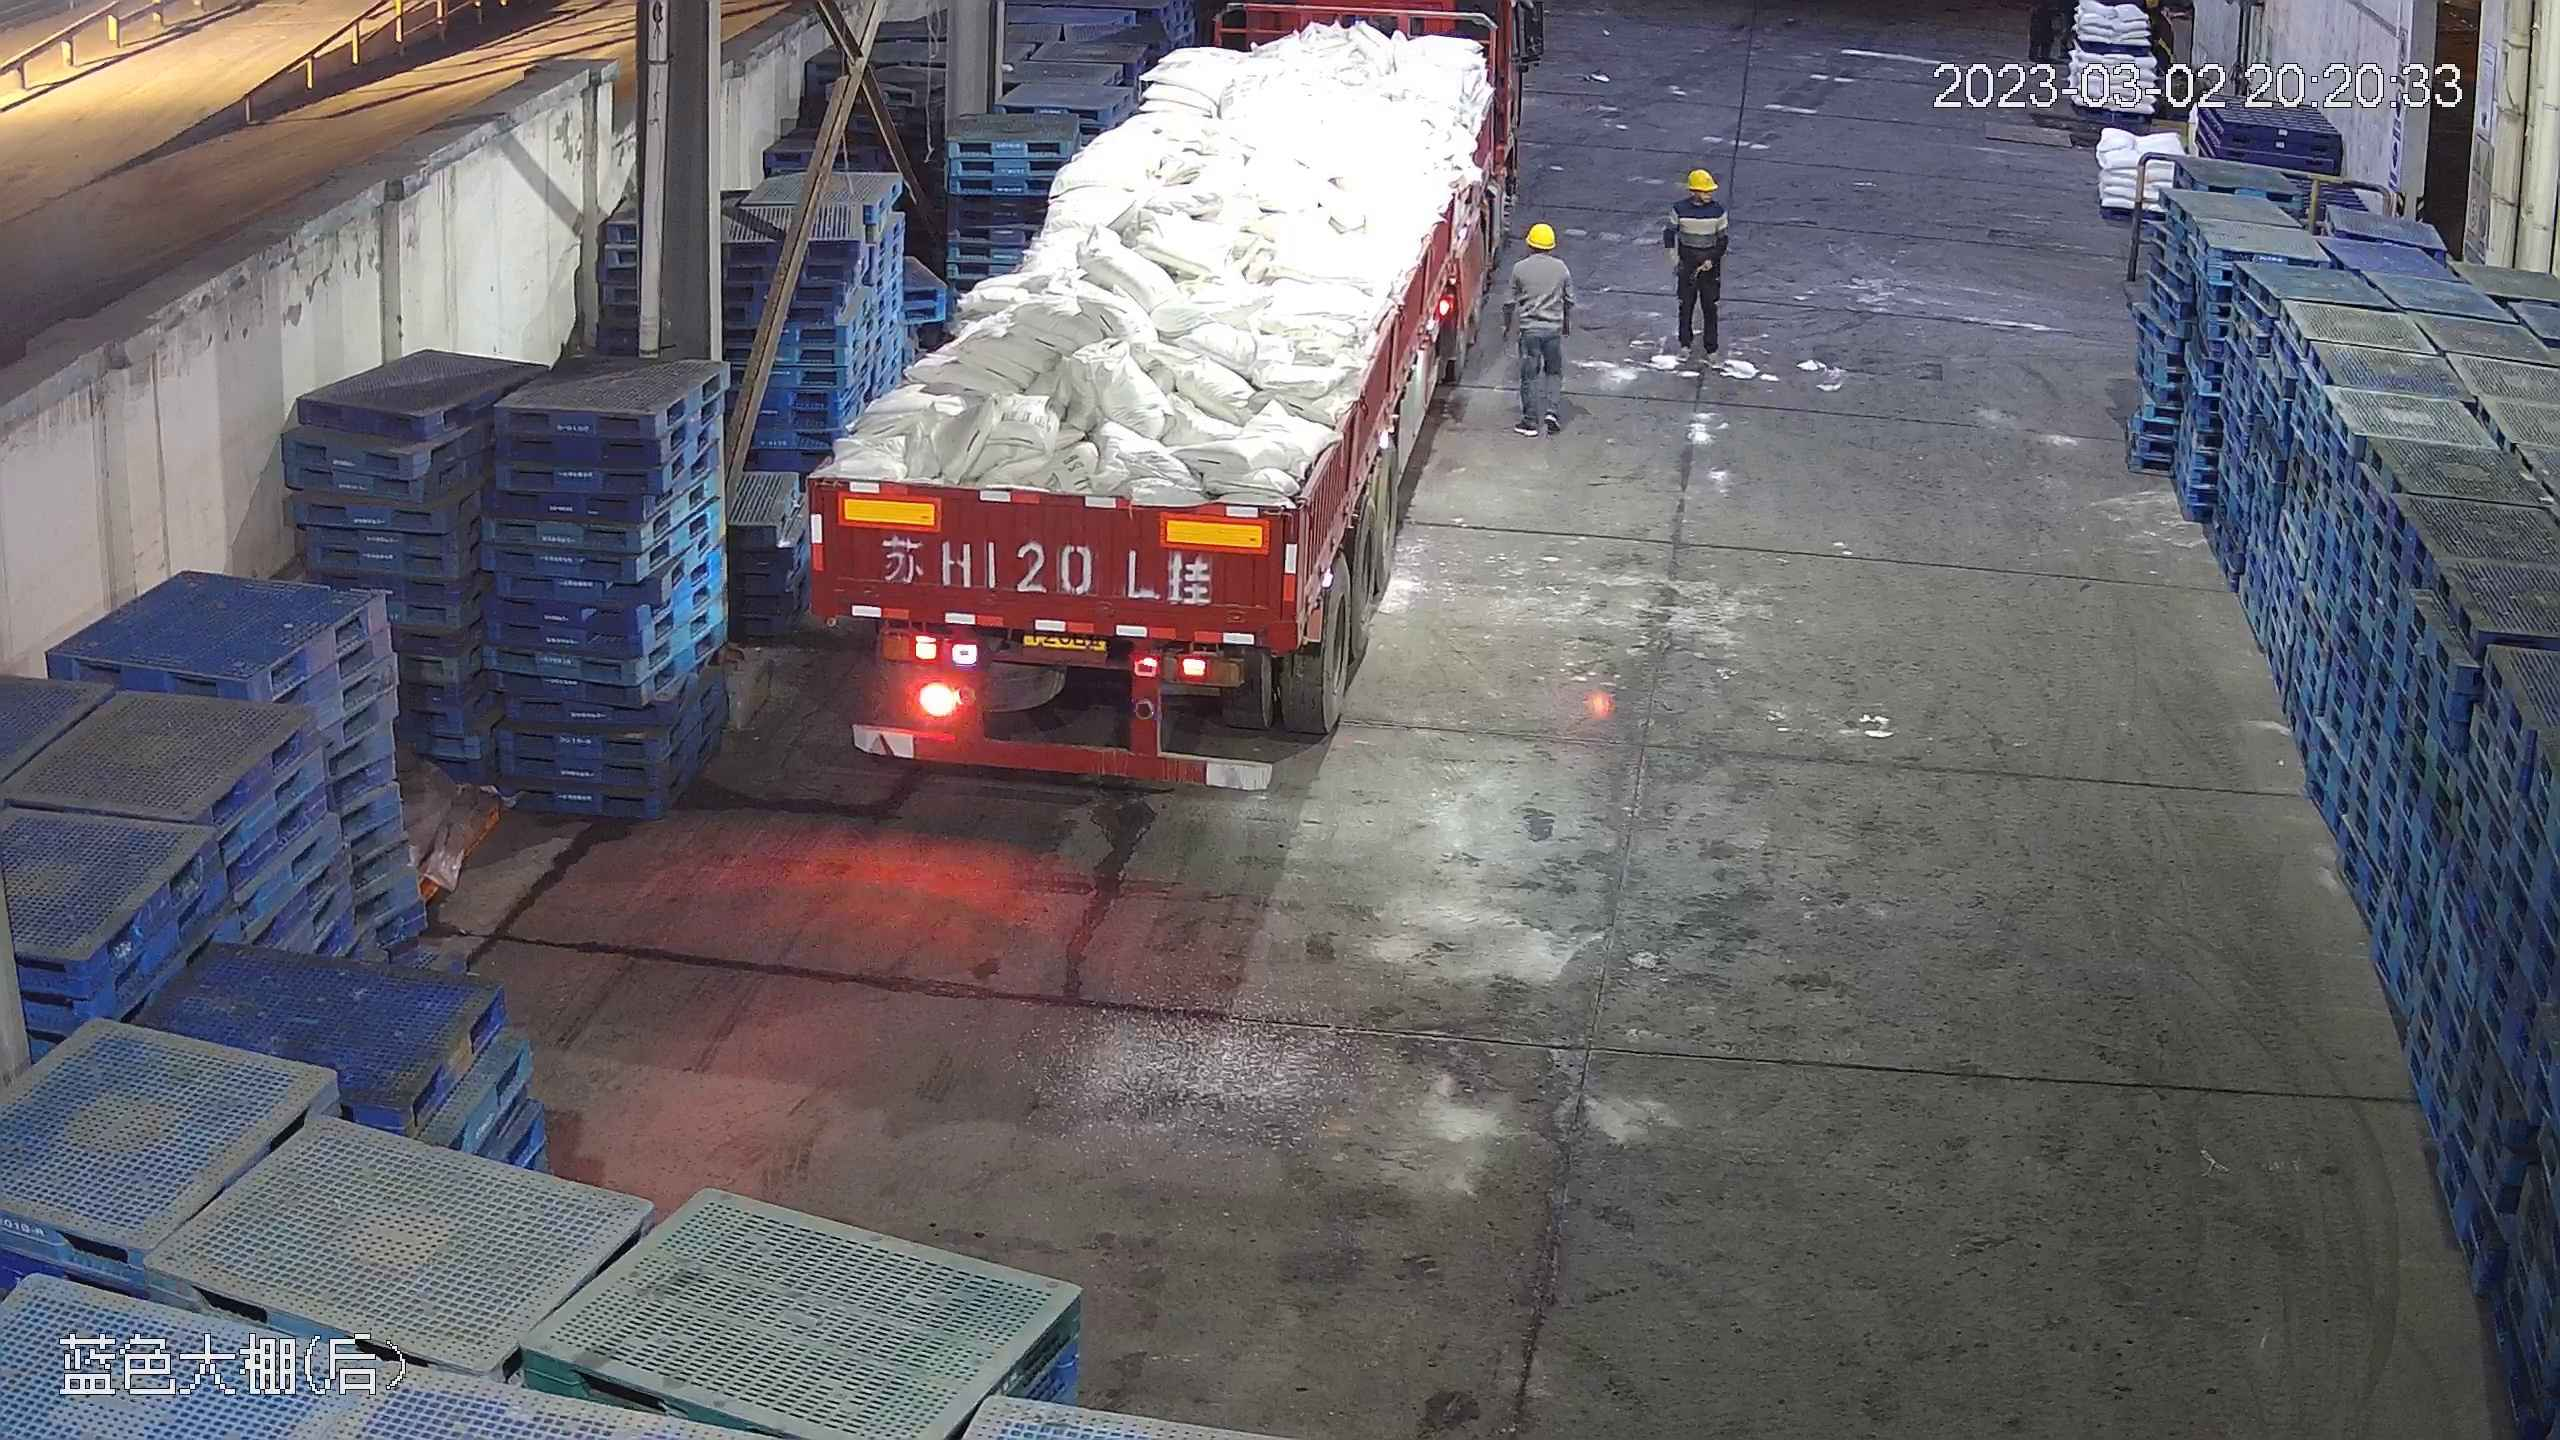head: (1511, 220, 1570, 285), (1672, 167, 1727, 222)
helmet: (1523, 220, 1557, 247), (1684, 167, 1718, 193)
people: (1496, 218, 1574, 434), (1661, 165, 1734, 362)
truck: (797, 6, 1533, 786)
